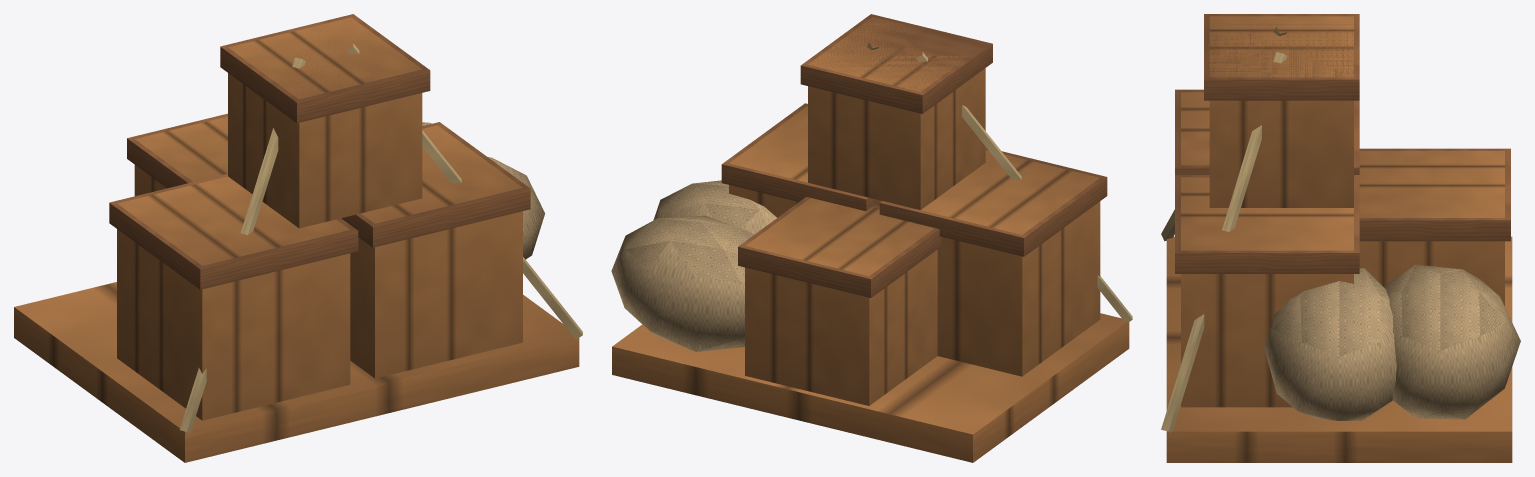
File: prop_cargo_pallet_01.glb
3 views of the same model, side by side, from view 1: azimuth 30°, elevation 25°; view 2: azimuth 150°, elevation 25°; view 3: azimuth 270°, elevation 25° (orthographic). The views are drawn at different scales.
Visible parts, largest first — view 1: prop_cargo_pallet_01; view 2: prop_cargo_pallet_01; view 3: prop_cargo_pallet_01.
Boxes of the visible parts, <box> form: prop_cargo_pallet_01: <box>14,14,582,462</box>; prop_cargo_pallet_01: <box>611,14,1132,462</box>; prop_cargo_pallet_01: <box>1161,14,1520,462</box>.
Size of the model in its own units: 1.78 by 1.25 by 1.25.
1 material, 1 textured.
